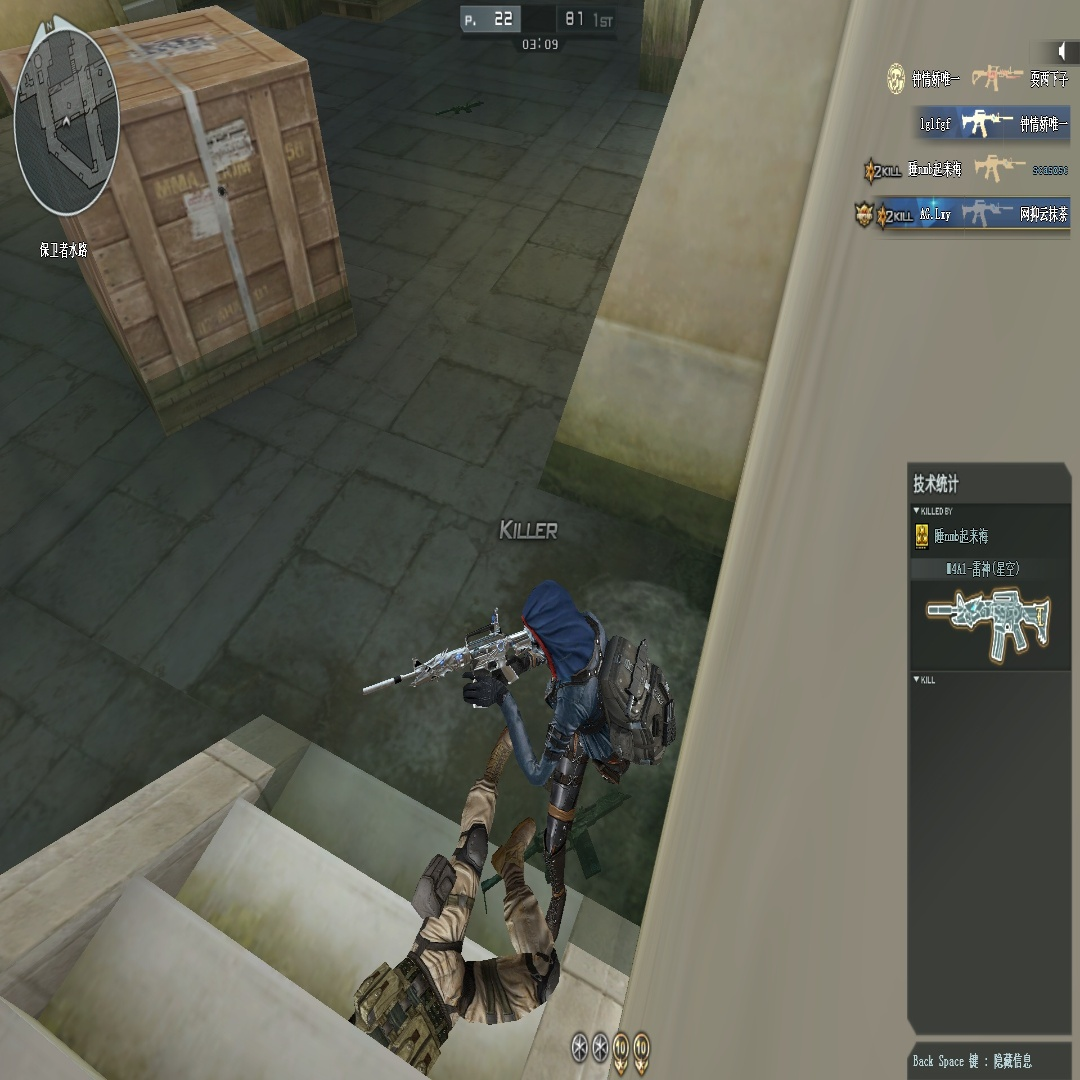p: (462, 580, 673, 917)
